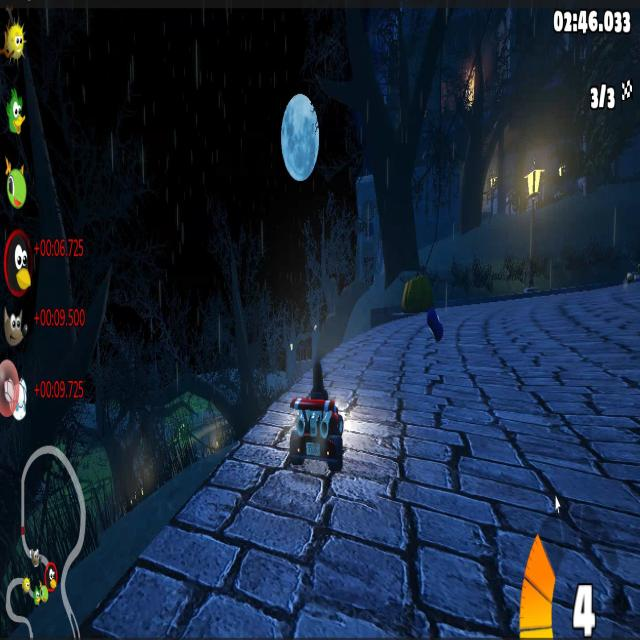player_kart: (292, 357, 344, 472)
track: (498, 295, 640, 635), (114, 556, 444, 640), (170, 486, 444, 554), (448, 288, 498, 640), (348, 374, 443, 470), (358, 328, 423, 365)
